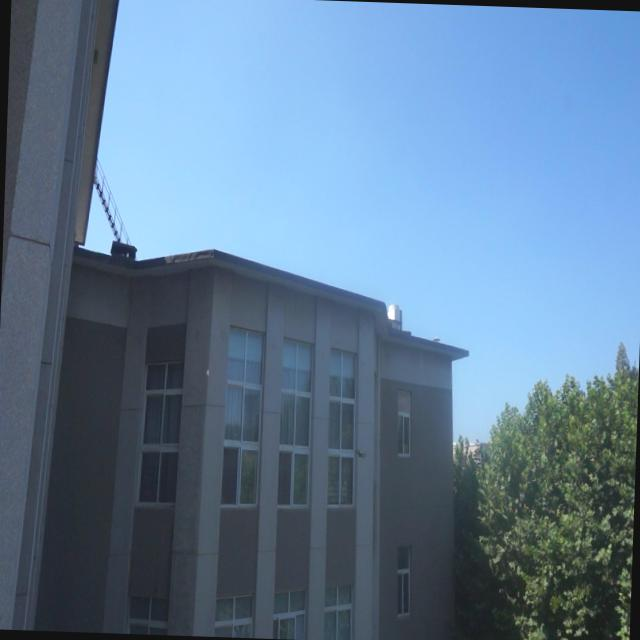drone: (354, 446, 368, 463)
